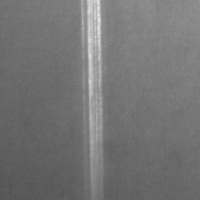scratches: (77, 1, 107, 183)
